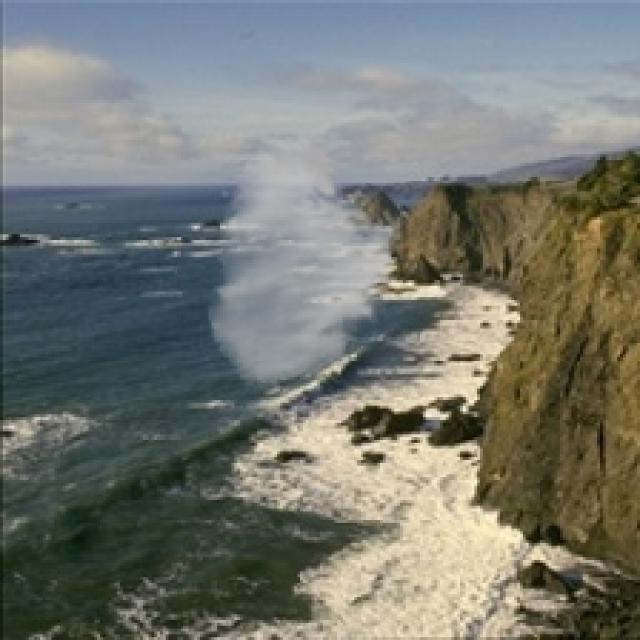smoke: (206, 134, 406, 392)
